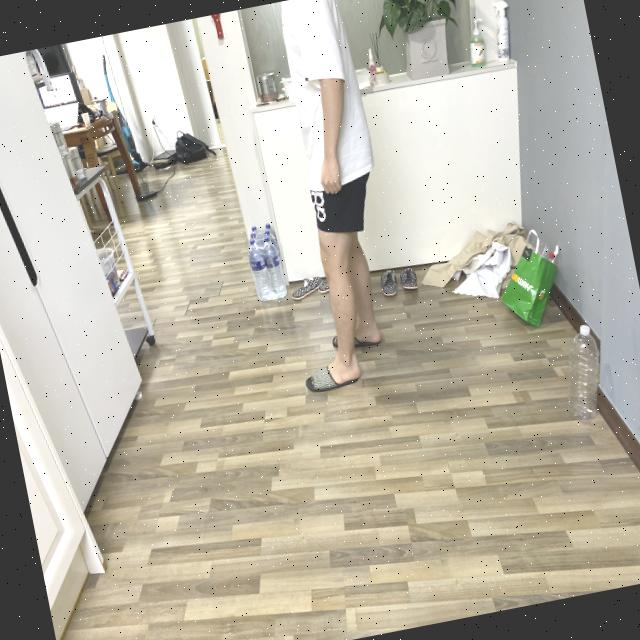no-boots: (298, 344, 376, 412)
